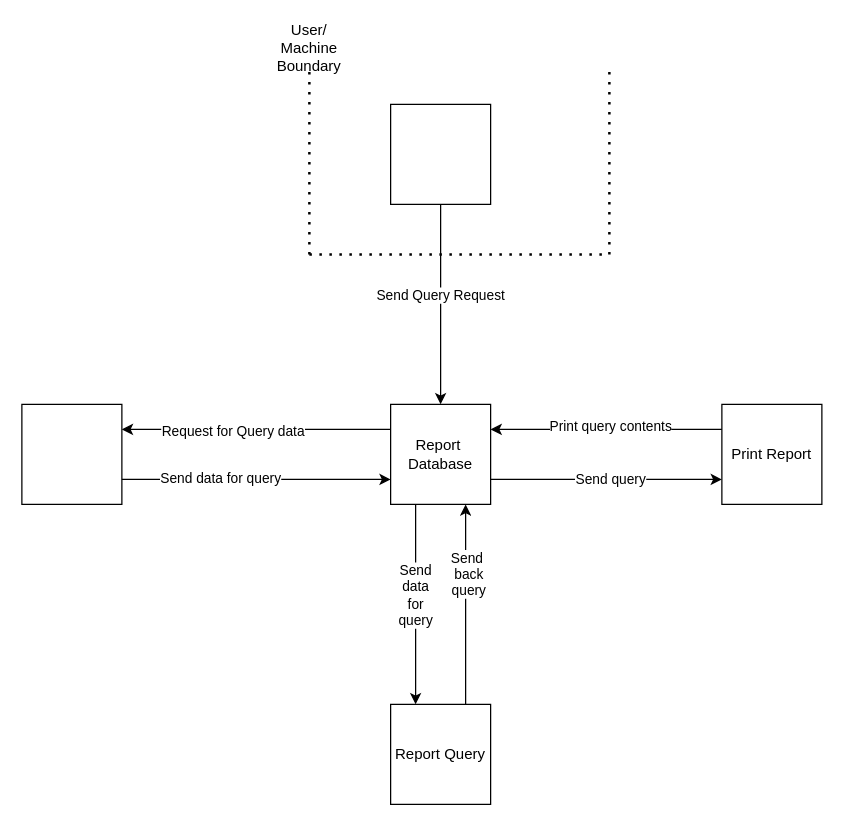
Some shapes in this 844 by 826 pixel diagram are drawn without their labels. Here are the shapes that lost their labels. From the top down, the centre of each, then its label:
At (440,153): "User".
At (71,453): "Report data".
